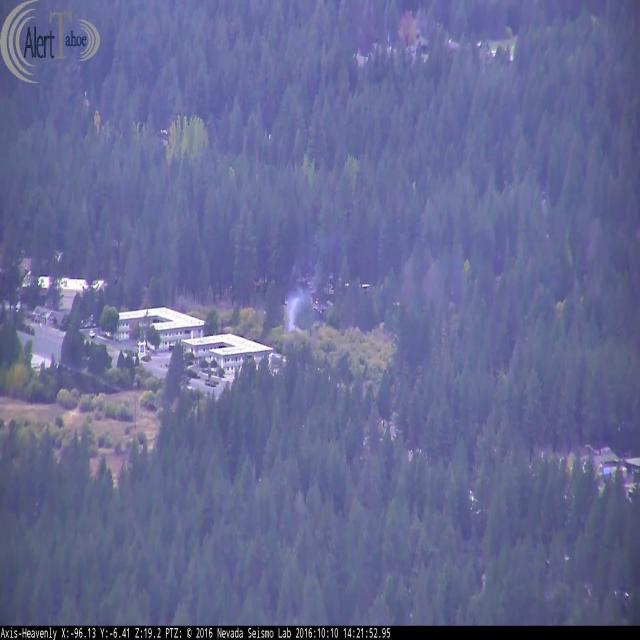smoke: (281, 282, 312, 334)
